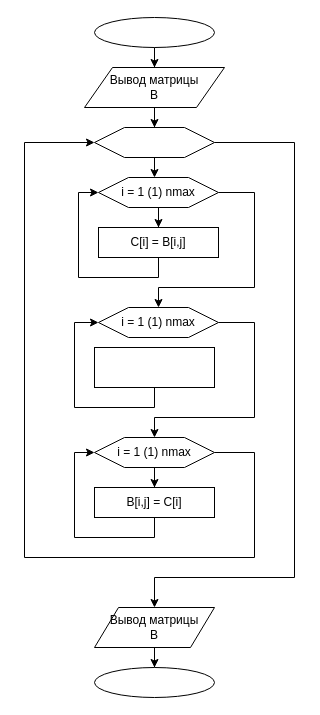
The diagram is 320 pixels wide and 715 high, and some of its shapes have lost their labels. The shapes that lost their labels are listed below. From the top down, each one's centre as x and y in pixels, then its label:
At [154,32]: "Начало".
At [154,142]: "j = 1 (1) nmax".
At [154,367]: "C = MassivUbiv(C,nmax)".
At [154,682]: "Конец".
